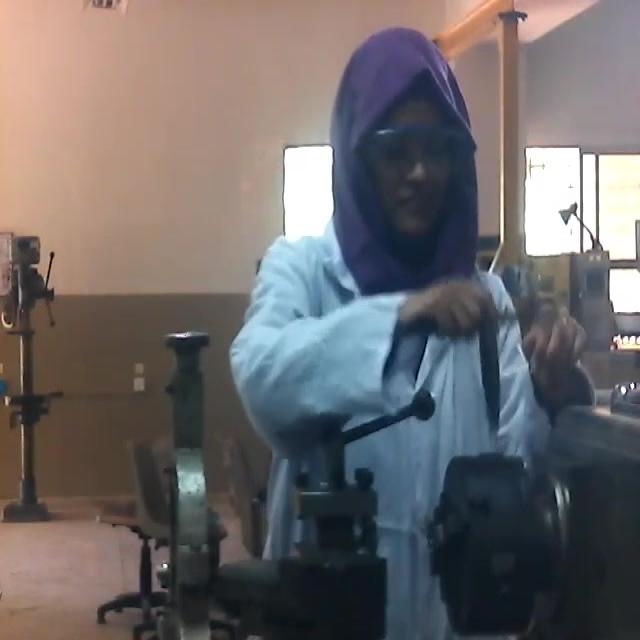googles: (369, 122, 465, 183)
labcoat: (234, 216, 594, 640)
